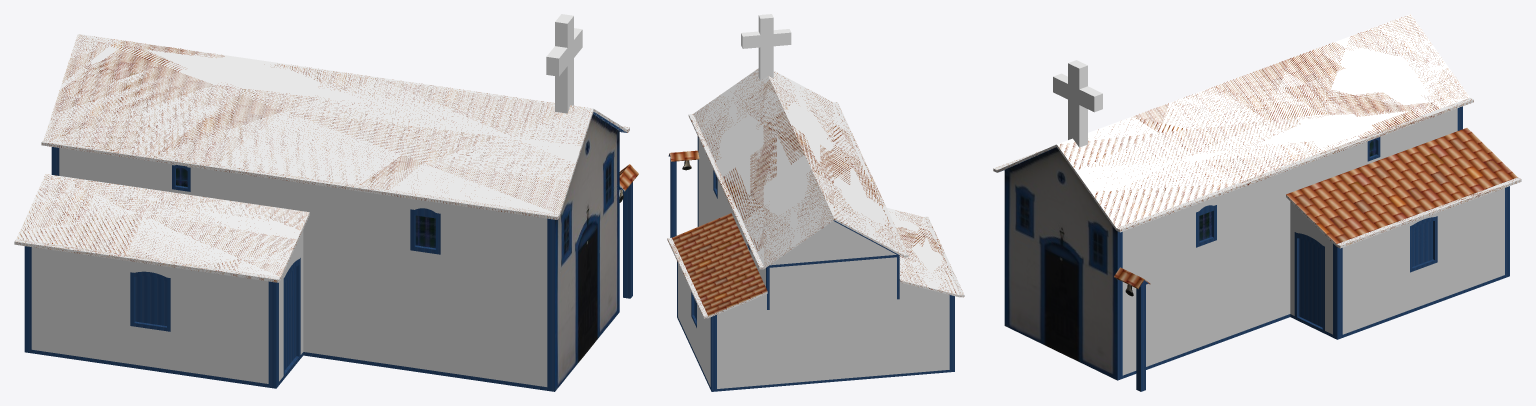
The model's file is Sem nome.dae.
3 views of the same model, side by side, from view 1: azimuth 30°, elevation 25°; view 2: azimuth 150°, elevation 25°; view 3: azimuth 270°, elevation 25° (orthographic). The views are drawn at different scales.
Visible parts, largest first — view 1: SketchUp (×11); view 2: SketchUp (×10); view 3: SketchUp (×9).
Part boxes in pixels (<box>): SketchUp (×11): <box>14,14,632,391</box>; SketchUp (×10): <box>667,14,964,391</box>; SketchUp (×9): <box>993,14,1521,391</box>.
Bounding box in the file's own units: 362 × 363 × 215.
